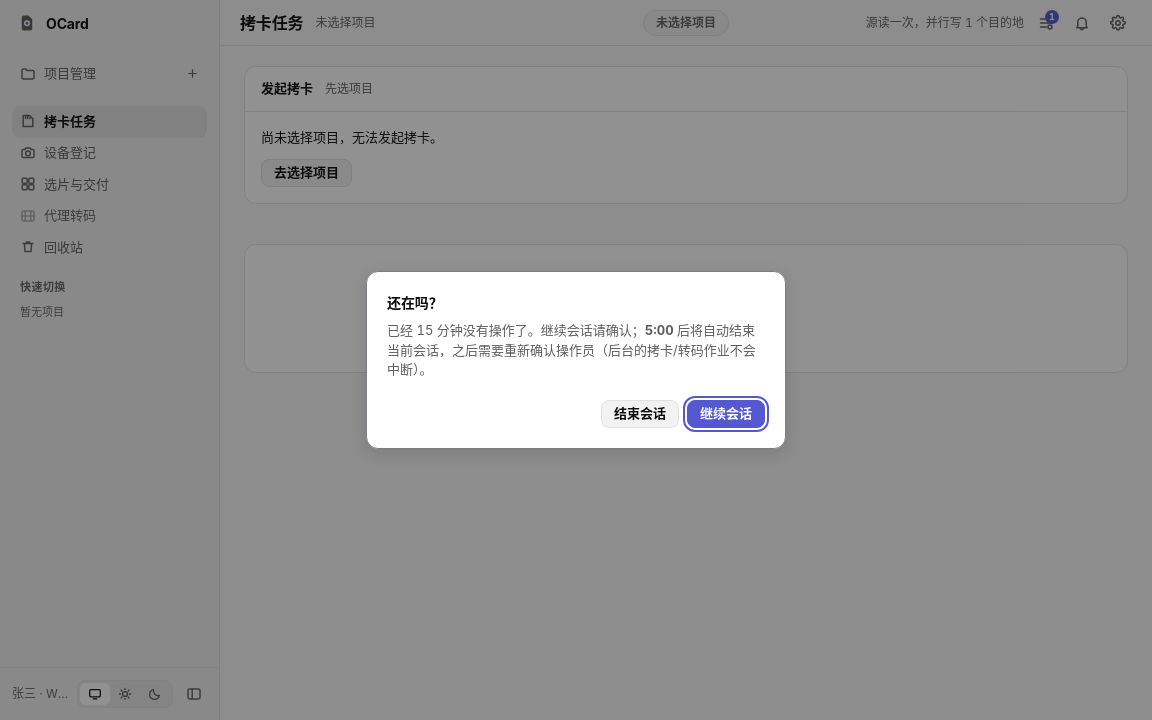
Test: 闲置询问 › 点「结束会话」立即进操作员确认门
The image size is (1152, 720).
Click the button with test id "session-end". click: (640, 414)
box: [601,400,679,428]
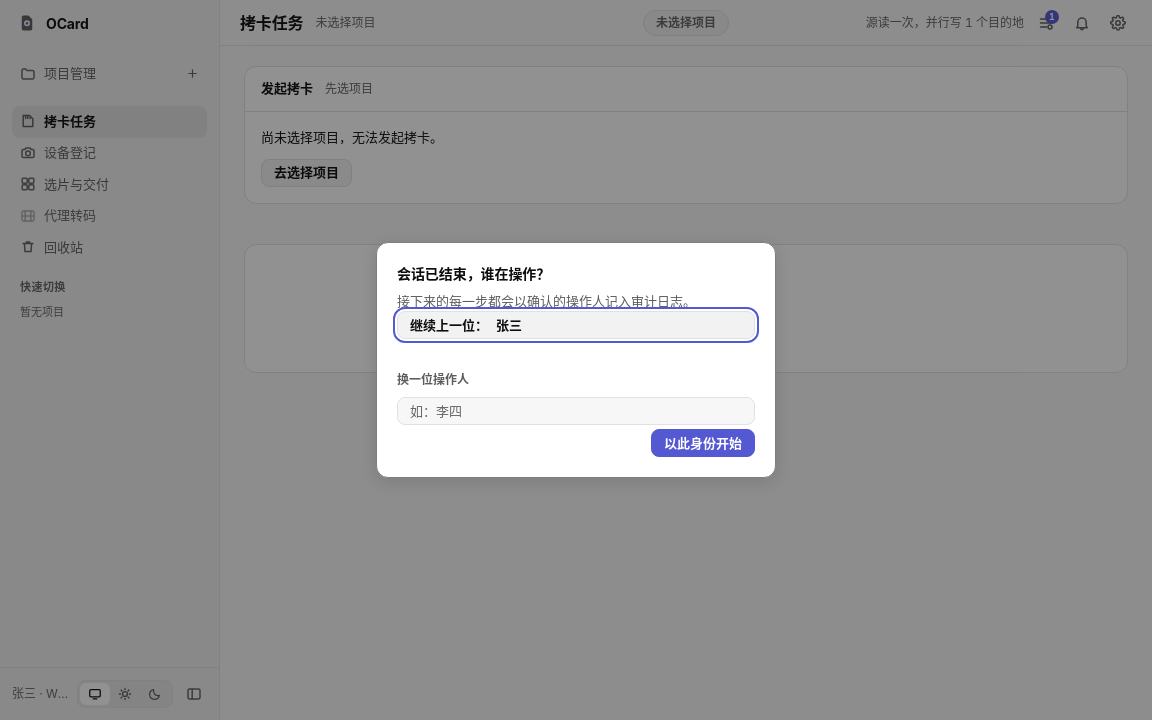
Now the element with test id "session-gate" is shown
